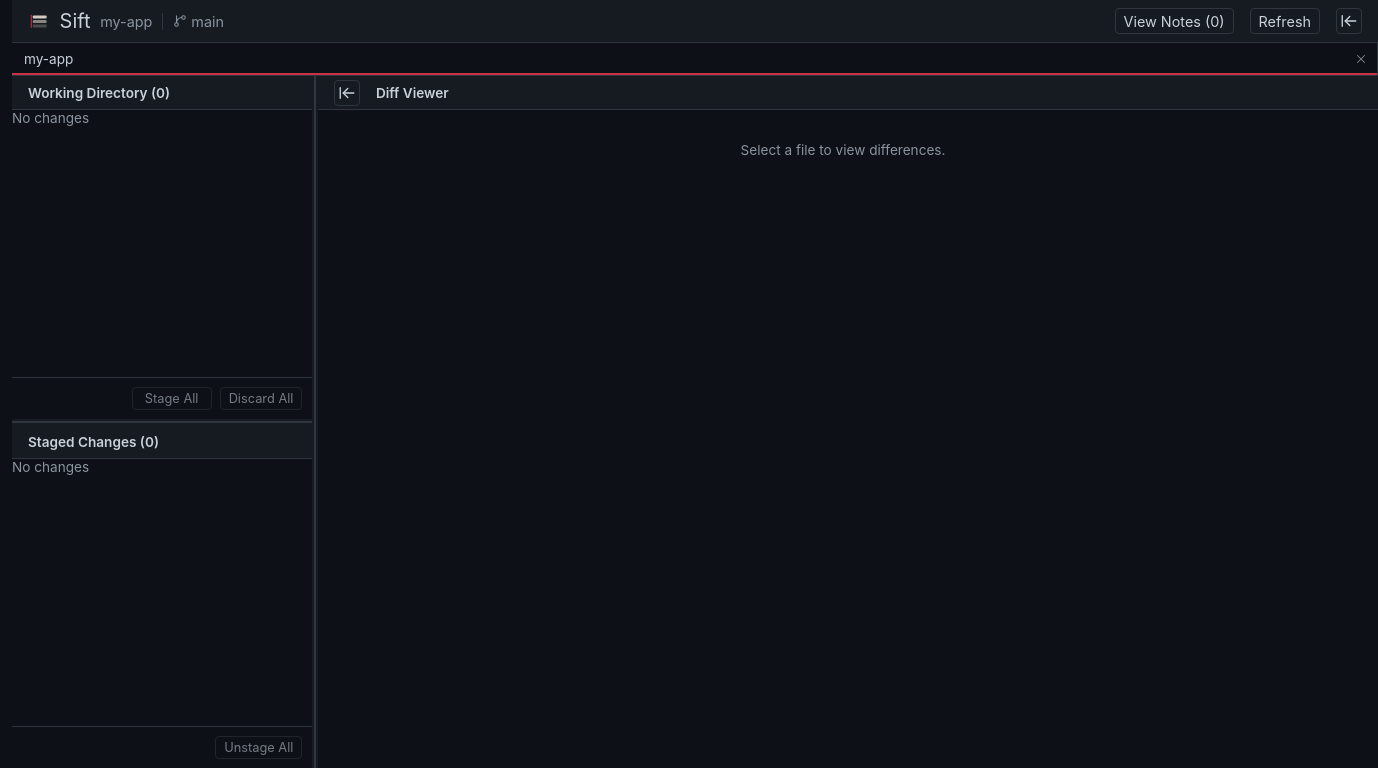
App repository tabs › navigates to selection when the only tab is closed
Expected: the button "my-app" is shown, [12,45,1351,73]
the close button on the active tab is clicked
Step 1. Click the button named "Close my-app" → (1361, 59), box [1351,49,1371,69]
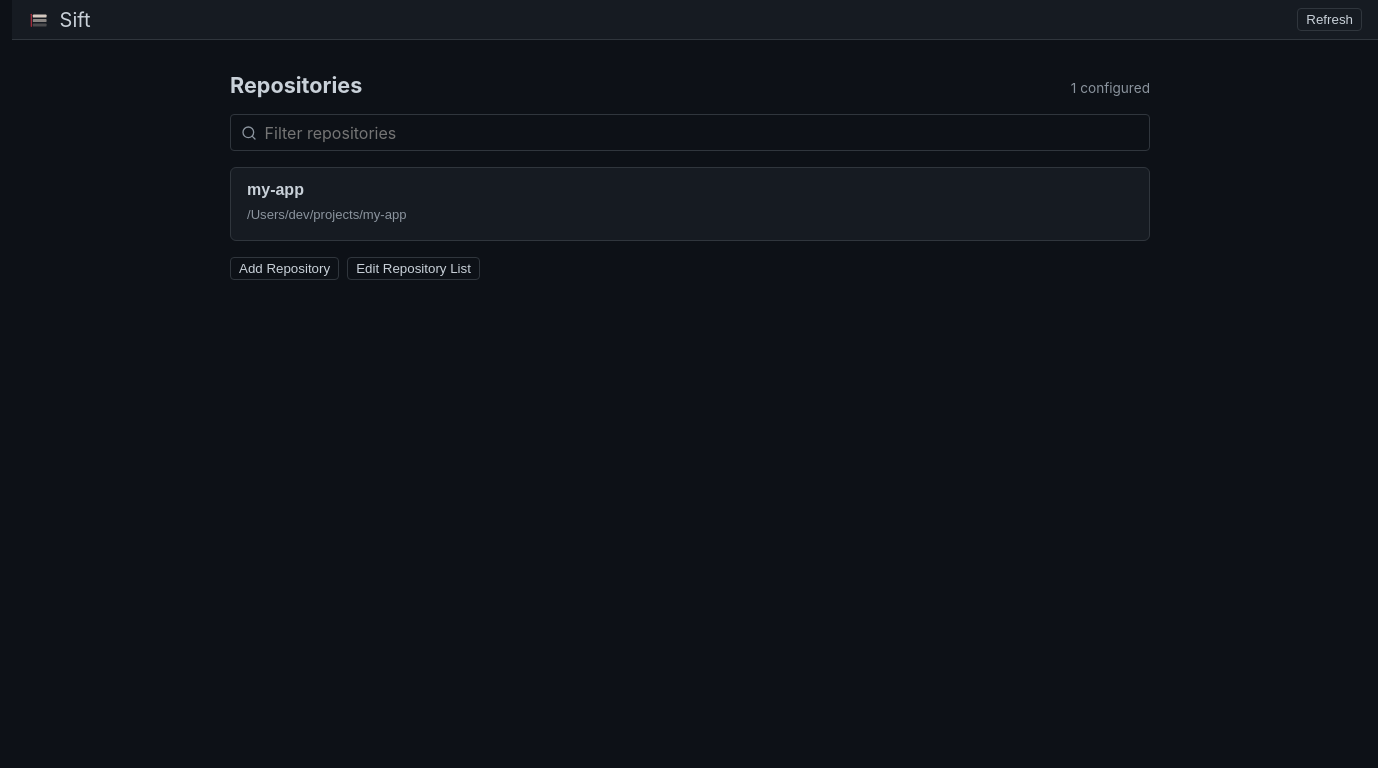
Expected: the heading "Repositories" is shown, [230,72,362,98]
